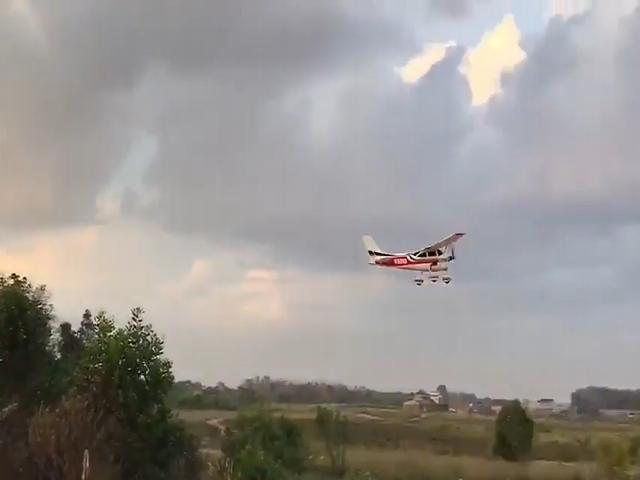plane: (363, 235, 468, 286)
